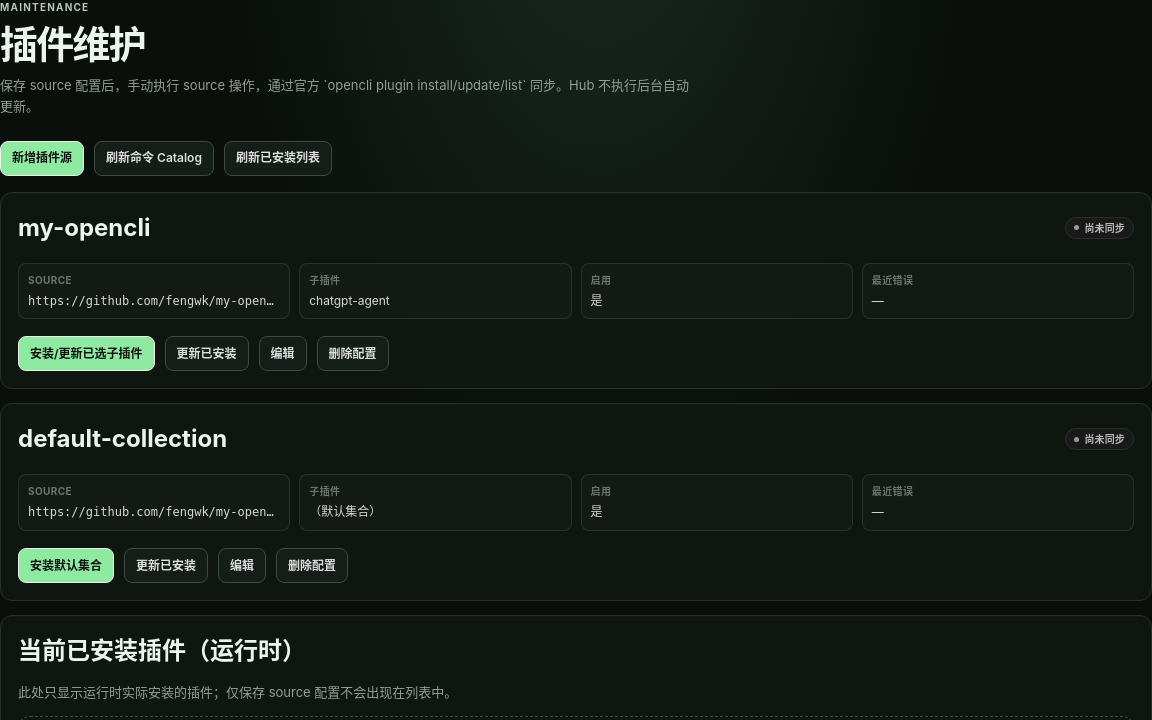
PluginsPage › distinguishes an unsynchronized source from an empty installed plugin list
Expected: the heading "my-opencli" is shown, [18,210,150,246]
Expected: the text "尚未同步" is shown 2 times, [1065,217,1134,239]; [1065,428,1134,450]
Click the button "编辑" below "chatgpt-agent" at (283, 354), box [259,336,307,371]
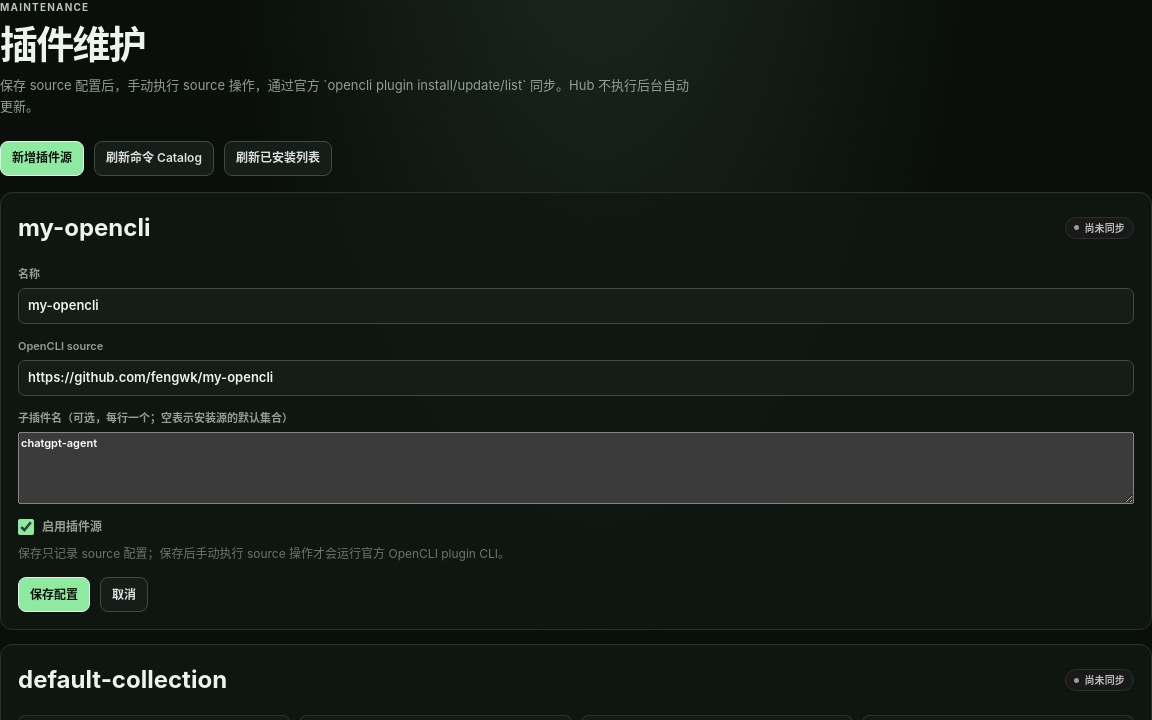
Result: the checkbox labelled "启用插件源" is checked at [18,519,34,535]
